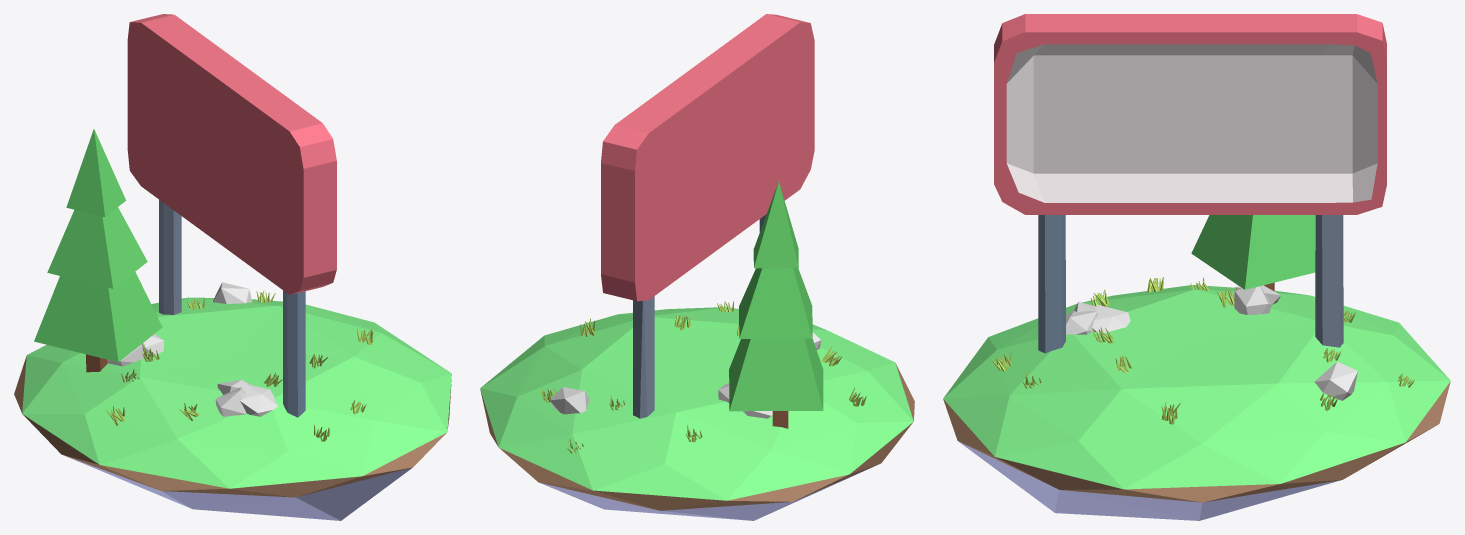
The model's file is BillBoard.gltf.
The picture shows the model from 3 angles, left to right: view 1: azimuth 30°, elevation 25°; view 2: azimuth 150°, elevation 25°; view 3: azimuth 270°, elevation 25°; orthographic projection. The views are drawn at different scales.
Parts seen in each view (by area): view 1: Cube; view 2: Cube; view 3: Cube.
Part boxes in pixels (x1=…): Cube: x1=14, y1=14, x2=451, y2=520; Cube: x1=480, y1=14, x2=914, y2=520; Cube: x1=943, y1=14, x2=1450, y2=520.
Size of the model in its own units: 3.06 by 3.35 by 3.26.
